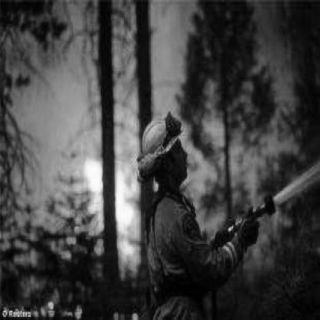Fire: (80, 145, 134, 259)
